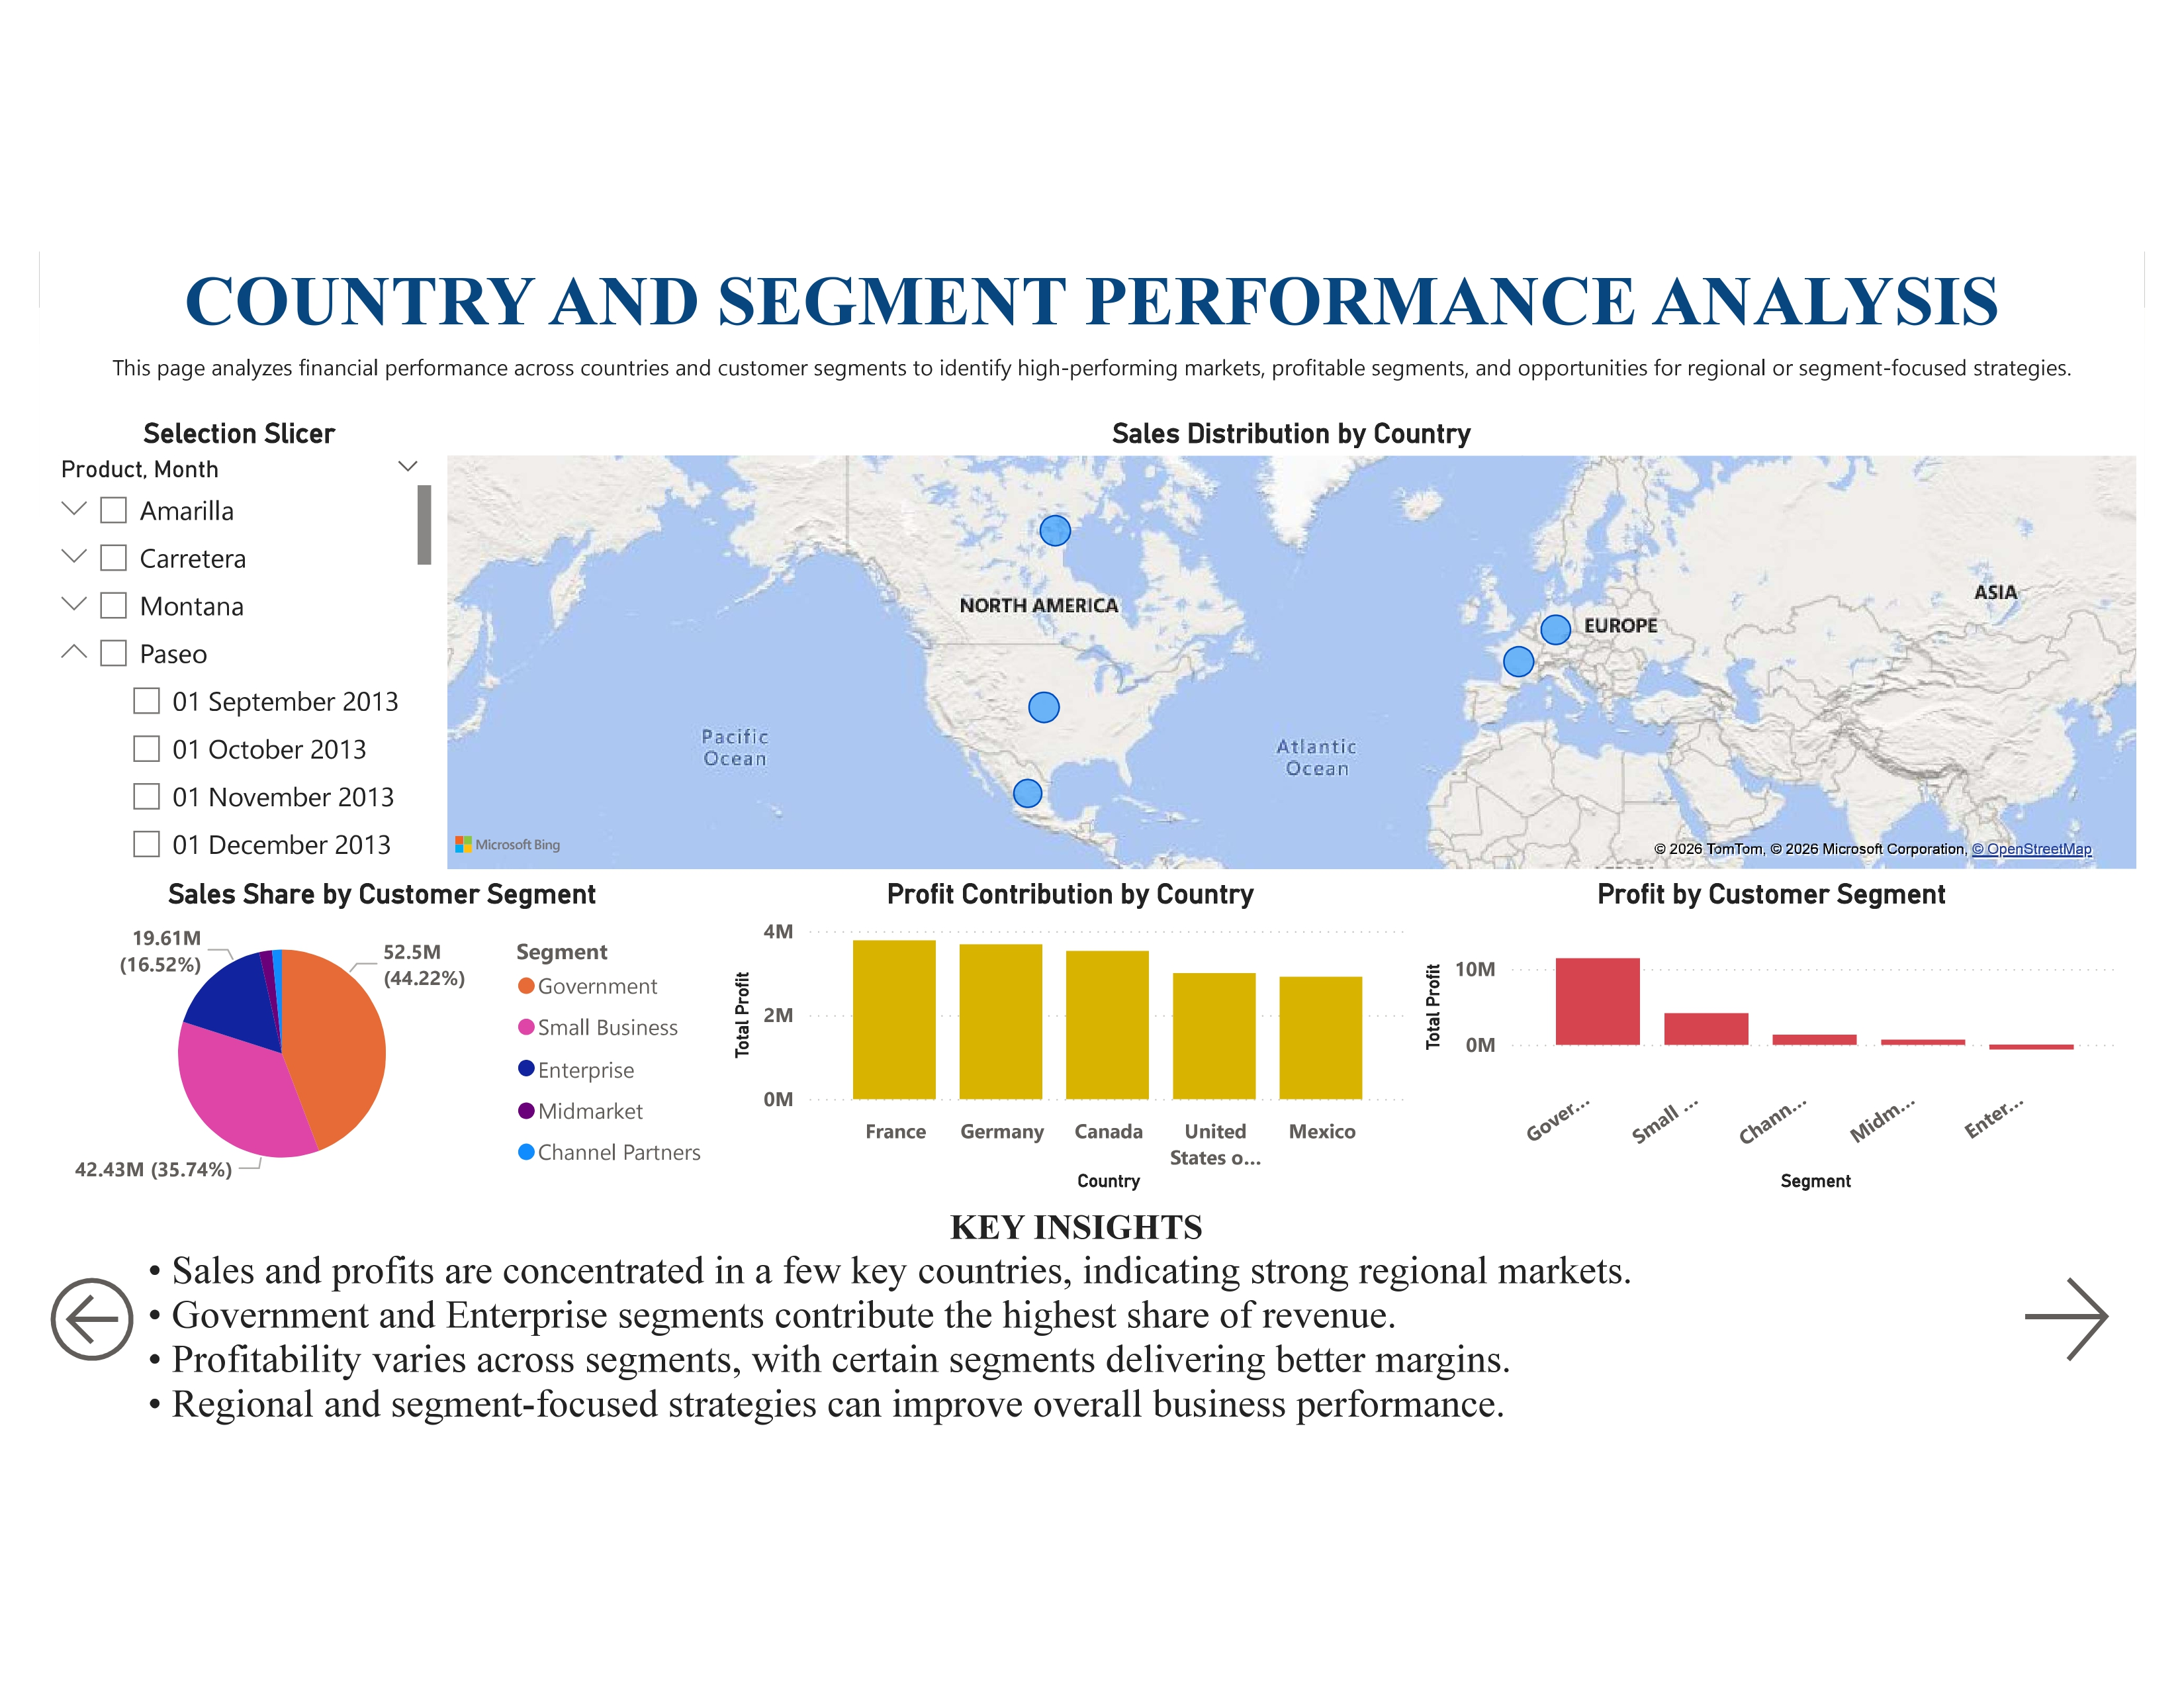

The page's visual inventory and layout, read from the dashboard file:
{"tool":"powerbi","page":{"name":"Country & Segment Performance Analysis","canvas":[1280,720],"ordinal":2},"visuals":[{"type":"textbox","box":[0,0,1280.3,78.2],"z":0},{"type":"actionButton","box":[0,617.5,98.8,63.1],"z":1000},{"type":"actionButton","box":[1200.4,617.5,79.6,63.1],"z":2000},{"type":"textbox","box":[61.4,575.7,1138.6,144.3],"z":3000},{"type":"map","title":"Sales Distribution by Country","fields":{"Category":["Sheet1.Country"],"Size":["Sheet1.Total Sales"]},"box":[242.9,100,1037.1,280],"z":4000},{"type":"textbox","box":[0,56.3,1280.3,43.9],"z":5000},{"type":"clusteredColumnChart","title":"Profit Contribution by Country","fields":{"Y":["Sheet1.Total Profit"],"Category":["Sheet1.Country"]},"box":[417.1,380,420,195.7],"z":6000},{"type":"pieChart","title":"Sales Share by Customer Segment","fields":{"Category":["Sheet1.Segment"],"Y":["Sheet1.Total Sales"]},"box":[0,380,417.1,195.7],"z":7000},{"type":"columnChart","title":"Profit by Customer Segment","fields":{"Category":["Sheet1.Segment"],"Y":["Sheet1.Total Profit"]},"box":[837.1,380,432.9,195.7],"z":8000},{"type":"slicer","title":"Selection Slicer","fields":{"Values":["Sheet1.Product","Sheet1.Date"]},"box":[0,100,242.9,280],"z":9000}]}

Visuals, with their boxes on the page's 1280x720 design canvas (x1, y1, x2, y2). These are canvas units, not pixel positions in the 2184x1688 screenshot, which may show the page scaled, cropped or inside an application window:
textbox: {"x1": 0, "y1": 0, "x2": 1280, "y2": 78}
actionButton: {"x1": 0, "y1": 618, "x2": 99, "y2": 681}
actionButton: {"x1": 1200, "y1": 618, "x2": 1280, "y2": 681}
textbox: {"x1": 61, "y1": 576, "x2": 1200, "y2": 720}
"Sales Distribution by Country" map: {"x1": 243, "y1": 100, "x2": 1280, "y2": 380}
textbox: {"x1": 0, "y1": 56, "x2": 1280, "y2": 100}
"Profit Contribution by Country" clusteredColumnChart: {"x1": 417, "y1": 380, "x2": 837, "y2": 576}
"Sales Share by Customer Segment" pieChart: {"x1": 0, "y1": 380, "x2": 417, "y2": 576}
"Profit by Customer Segment" columnChart: {"x1": 837, "y1": 380, "x2": 1270, "y2": 576}
"Selection Slicer" slicer: {"x1": 0, "y1": 100, "x2": 243, "y2": 380}
